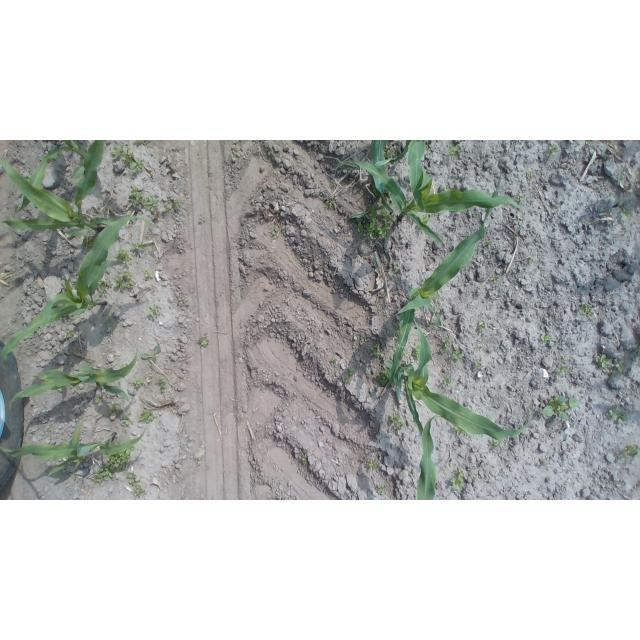Maize: (2, 216, 159, 365), (388, 179, 499, 389), (331, 142, 523, 247), (384, 312, 531, 441), (0, 141, 130, 236), (10, 348, 143, 411), (0, 421, 148, 475), (14, 140, 94, 212), (416, 416, 439, 500), (369, 140, 390, 222)
Weeds: (356, 204, 394, 241), (541, 395, 579, 422), (111, 145, 144, 175), (127, 186, 159, 213), (593, 353, 627, 375), (107, 445, 135, 471), (89, 465, 115, 486), (125, 472, 147, 496), (609, 406, 630, 426), (114, 270, 133, 292), (449, 466, 465, 491), (389, 412, 408, 431), (114, 246, 132, 266), (620, 443, 638, 461), (96, 279, 113, 297), (554, 357, 570, 376), (445, 144, 462, 160), (138, 409, 156, 424), (142, 345, 161, 359), (578, 302, 594, 318), (377, 369, 392, 386), (360, 457, 378, 471), (108, 403, 125, 417), (438, 337, 450, 356), (419, 214, 435, 227), (147, 305, 161, 318), (488, 437, 500, 452), (130, 377, 146, 388), (370, 343, 381, 358), (451, 349, 464, 361), (441, 375, 454, 387), (83, 235, 94, 249), (157, 375, 167, 390), (620, 208, 632, 220), (122, 413, 133, 426), (547, 144, 558, 157), (268, 227, 281, 238), (412, 344, 421, 359), (131, 242, 145, 251), (540, 333, 551, 344), (144, 268, 154, 280), (177, 297, 187, 309), (172, 197, 182, 209), (454, 426, 466, 436), (375, 485, 385, 496), (617, 174, 625, 187), (473, 360, 483, 370), (478, 322, 487, 333), (326, 199, 337, 208), (491, 273, 500, 284), (200, 337, 209, 347), (348, 366, 356, 377), (526, 168, 535, 177), (485, 239, 493, 249), (384, 147, 392, 157), (518, 193, 526, 203), (402, 350, 410, 359), (394, 327, 401, 337), (163, 204, 171, 212), (94, 394, 102, 402), (66, 331, 74, 339), (302, 456, 309, 465), (105, 318, 114, 325), (343, 376, 350, 385), (586, 141, 595, 148), (45, 426, 52, 434), (331, 358, 338, 365), (394, 265, 400, 273), (474, 345, 482, 351), (329, 181, 335, 189), (527, 256, 534, 262), (199, 217, 205, 224), (623, 229, 630, 235), (71, 475, 78, 481), (133, 140, 143, 144), (542, 459, 548, 465)
